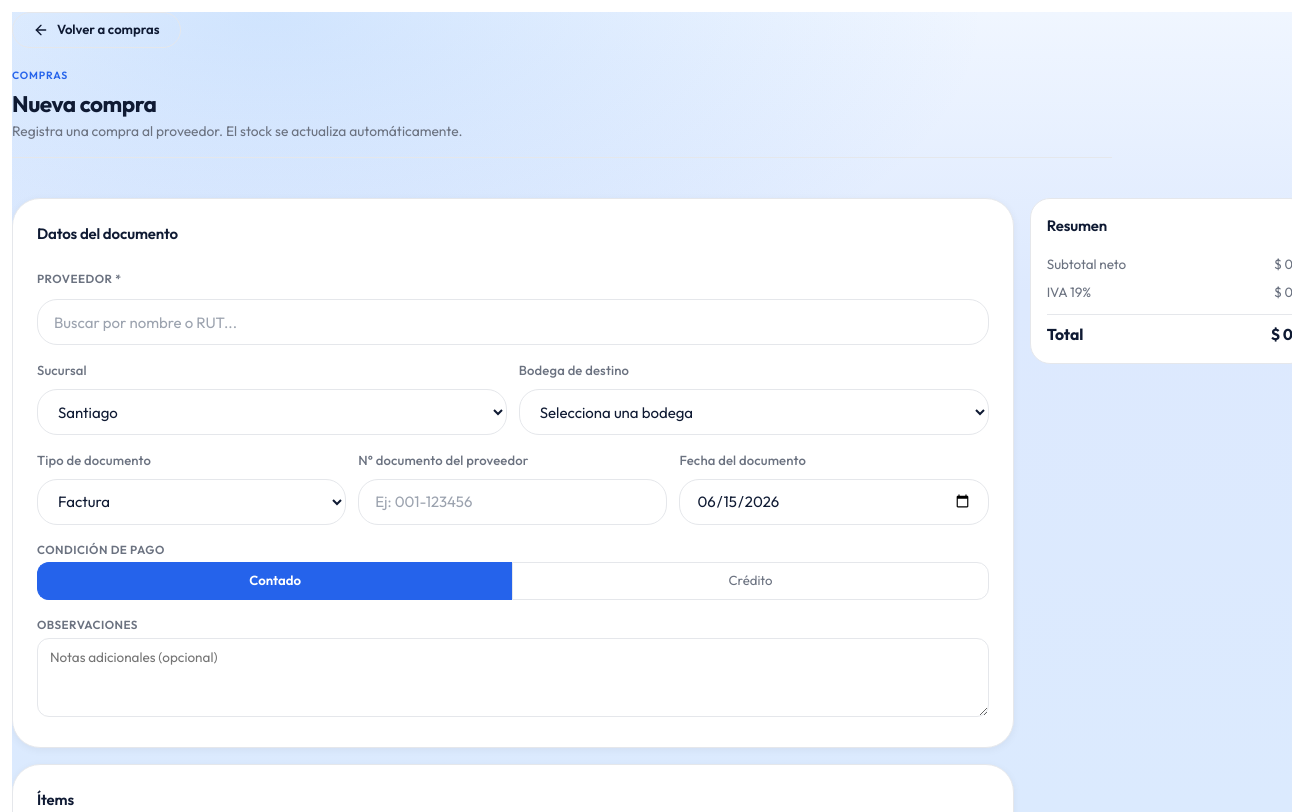
Test: NuevaCompraPage › cambiar condición a CRÉDITO muestra el campo de días crédito
Buscar el botón Crédito del toggle
What coordinates should you click on to do the following:
click the button "Crédito"
I would click on:
 (750, 581)
Its box is x1=512 y1=562 x2=989 y2=600.
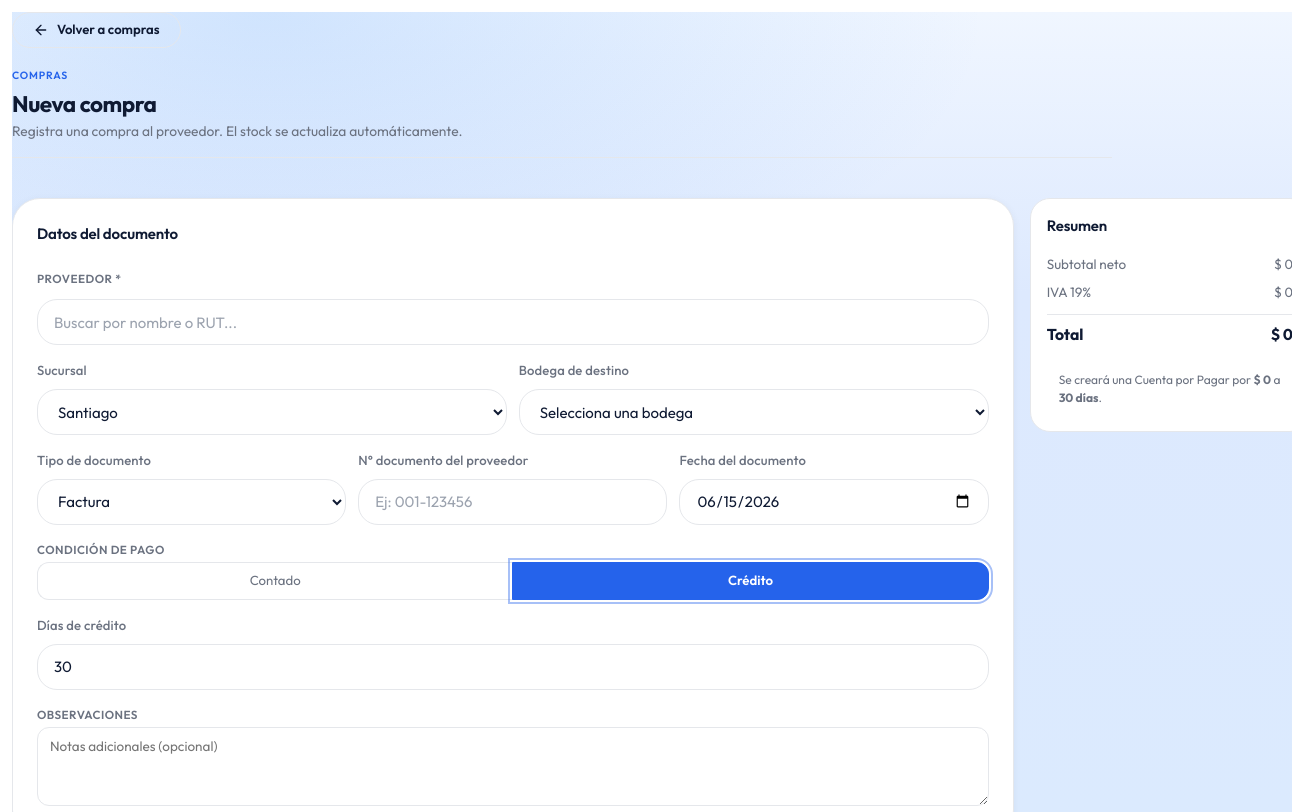
Result: the number field labelled "Días de crédito" is shown at x1=38 y1=645 x2=198 y2=689
